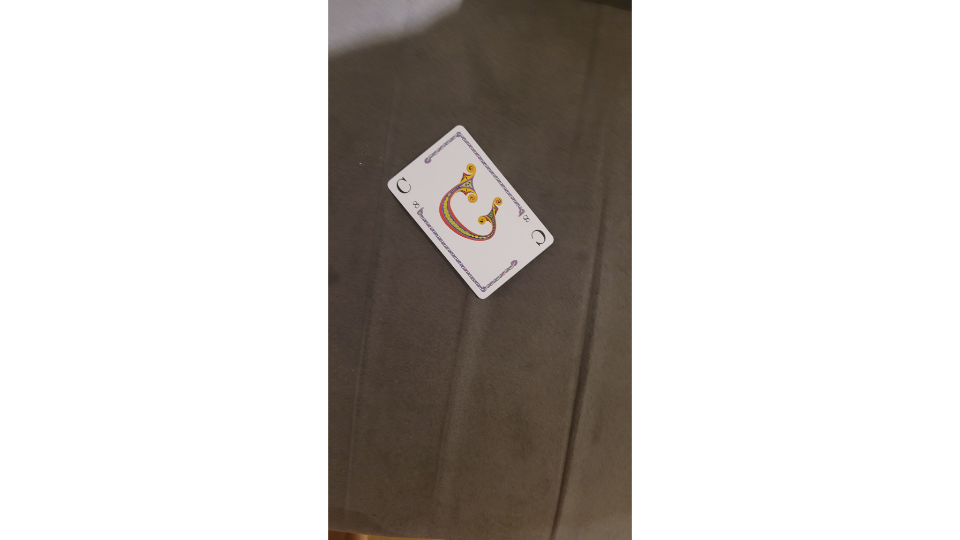C: (382, 123, 558, 303)
